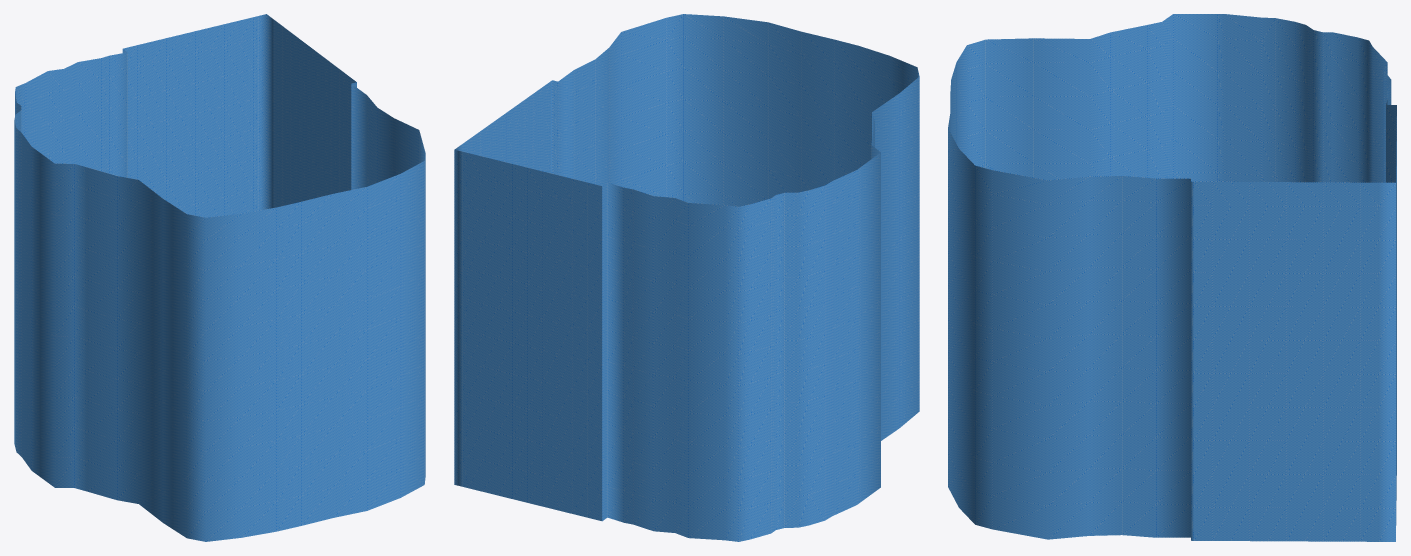
Rendered from Hungry_2_collider.fbx.
3 views of the same model, side by side, from view 1: azimuth 30°, elevation 25°; view 2: azimuth 150°, elevation 25°; view 3: azimuth 270°, elevation 25° (orthographic). The views are drawn at different scales.
Parts seen in each view (by area): view 1: Hungry_2_collider_0; view 2: Hungry_2_collider_0; view 3: Hungry_2_collider_0.
Boxes of the visible parts, x1,y1,x2,y2 form: Hungry_2_collider_0: [14, 14, 425, 541]; Hungry_2_collider_0: [454, 14, 919, 541]; Hungry_2_collider_0: [948, 14, 1396, 541].
Size of the model in its own units: 108 by 107 by 121.
